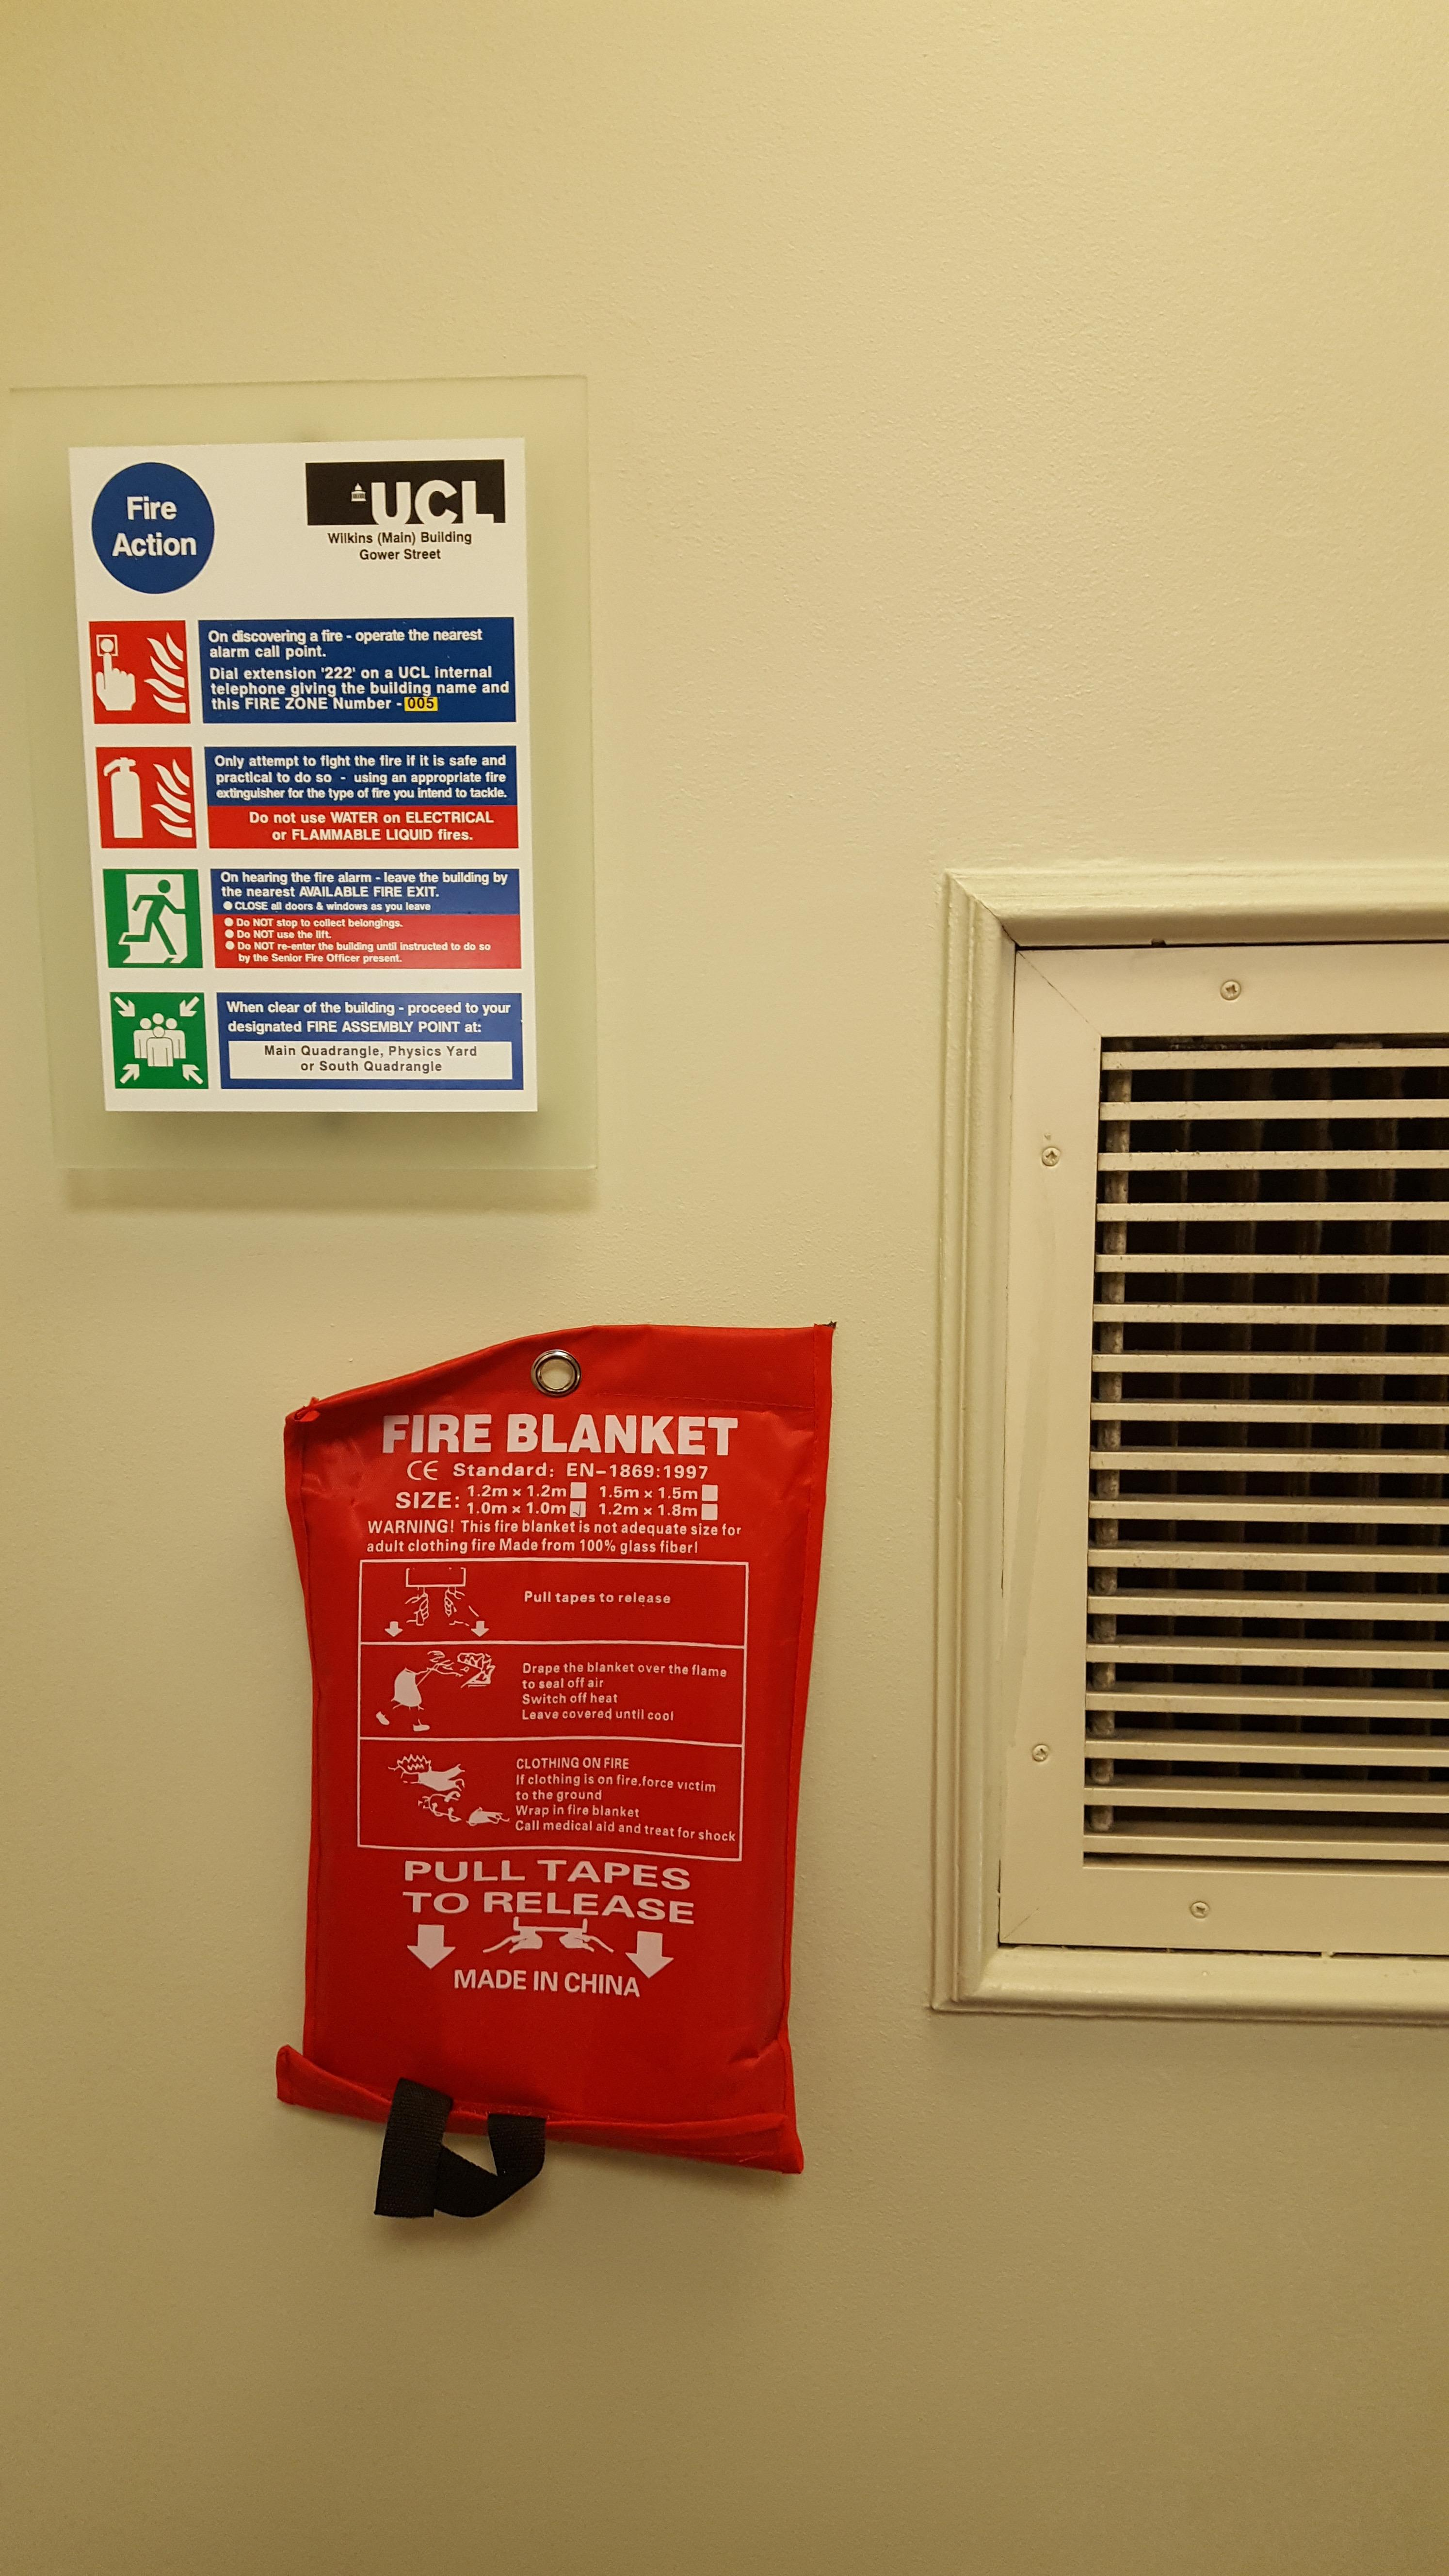blanket: (276, 1322, 839, 2176)
